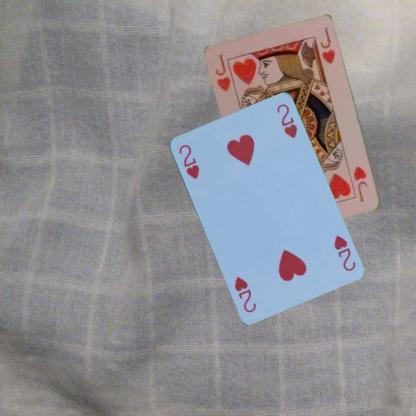2h: (330, 232, 356, 272), (176, 141, 200, 181)
Jh: (212, 52, 232, 93), (350, 164, 370, 204)
